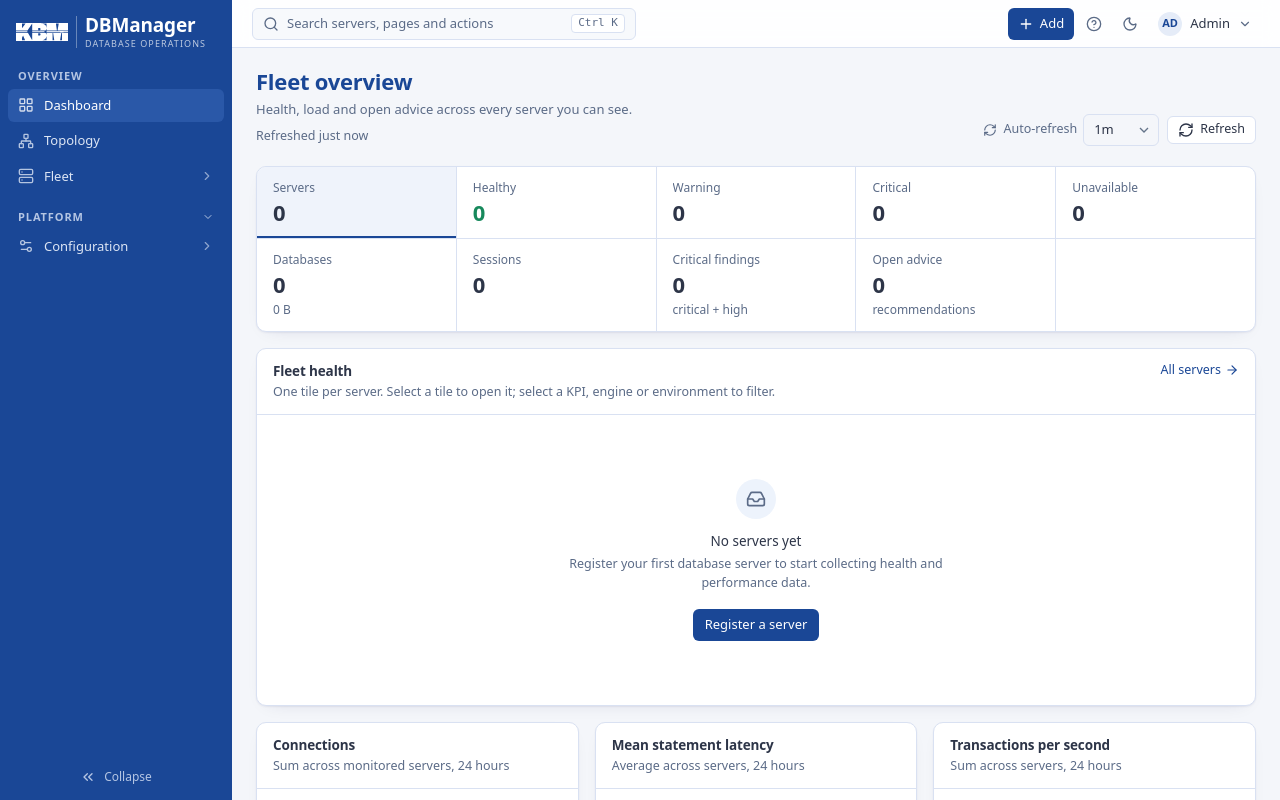
Test case: simulation administration › is only in the navigation for holders of simulation.view
Expected: the heading "Fleet overview" is shown, 256,66 -> 412,96
Click the button "Configuration".
click(116, 246)  # box 8,230 -> 224,263
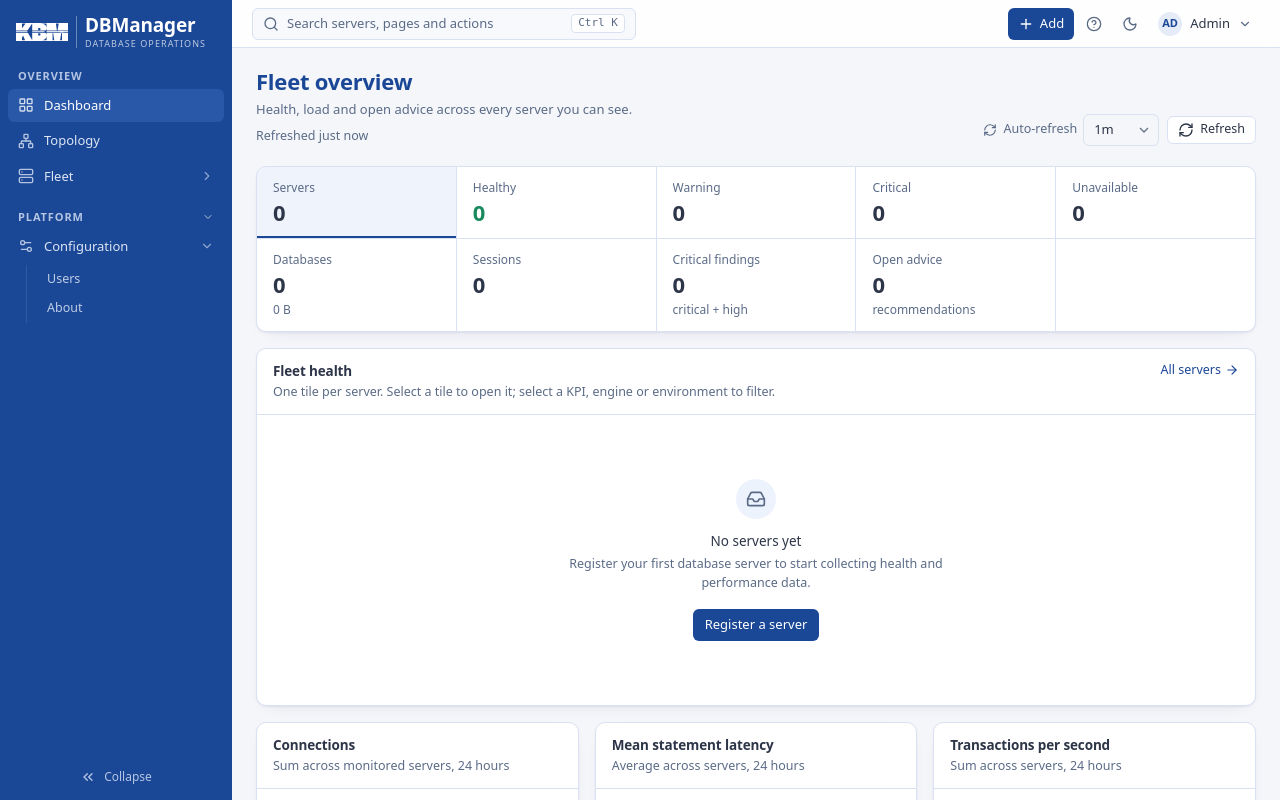
Expected: the navigation bar named "Main" does not show "Simulation", 8,64 -> 224,322
Expected: the navigation bar named "Main" shows "Users", 37,265 -> 224,294
